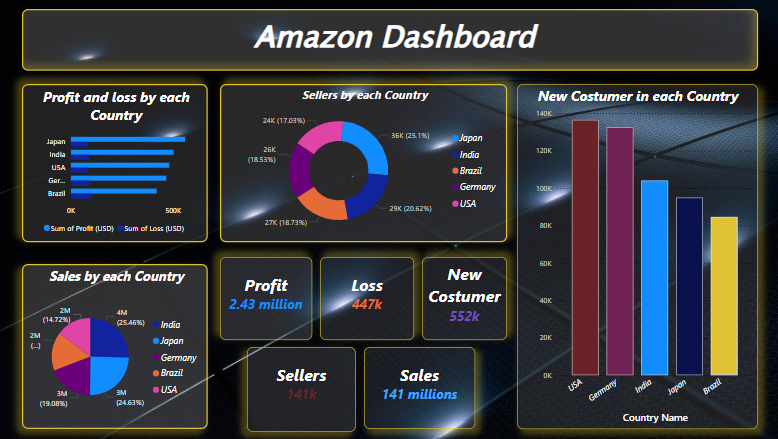

The dashboard page shown, as its layout file describes it:
{"tool":"powerbi","page":{"name":"Page 1","canvas":[1280,720],"ordinal":0},"visuals":[{"type":"clusteredColumnChart","title":"New Costumer in each Country","fields":{"Category":["Sheet1.Country"],"Y":["Sum(Sheet1.New Customers)"]},"box":[849.5,139.1,394.5,564.7],"z":0},{"type":"clusteredBarChart","title":" Profit and loss by each Country ","fields":{"Category":["Sheet1.Country"],"Y":["Sum(Sheet1.Profit (USD))","Sum(Sheet1.Loss (USD))"]},"box":[39.3,139.1,304.5,258.6],"z":1000},{"type":"pieChart","title":"Sales  by each Country ","fields":{"Category":["Sheet1.Country"],"Y":["Sum(Sheet1.Sales (USD))"]},"box":[39.3,433.8,304.5,270.1],"z":2000},{"type":"donutChart","title":" Sellers by each Country","fields":{"Category":["Sheet1.Country"],"Y":["Sum(Sheet1.Sellers)"]},"box":[363.4,139.1,469.8,258.6],"z":3000},{"type":"textbox","box":[39.3,16.4,1204.7,101.5],"z":4000},{"type":"textbox","box":[363.4,422.3,150.6,135.9],"z":5000},{"type":"textbox","box":[527.1,422.3,153.9,135.9],"z":6000},{"type":"textbox","box":[694,422.3,139.1,135.9],"z":7000},{"type":"textbox","box":[407.6,569.6,178.4,139.1],"z":8000},{"type":"textbox","box":[599.1,569.6,181.7,134.2],"z":9000}]}

Visuals, with their boxes in screenshot pixels (x1, y1, x2, y2), scaled from the page's 1280x720 canvas onto the 778x439 screenshot:
"New Costumer in each Country" clusteredColumnChart: [x1=516, y1=85, x2=756, y2=429]
" Profit and loss by each Country " clusteredBarChart: [x1=24, y1=85, x2=209, y2=242]
"Sales  by each Country " pieChart: [x1=24, y1=264, x2=209, y2=429]
" Sellers by each Country" donutChart: [x1=221, y1=85, x2=506, y2=242]
textbox: [x1=24, y1=10, x2=756, y2=72]
textbox: [x1=221, y1=257, x2=312, y2=340]
textbox: [x1=320, y1=257, x2=414, y2=340]
textbox: [x1=422, y1=257, x2=506, y2=340]
textbox: [x1=248, y1=347, x2=356, y2=432]
textbox: [x1=364, y1=347, x2=475, y2=429]
